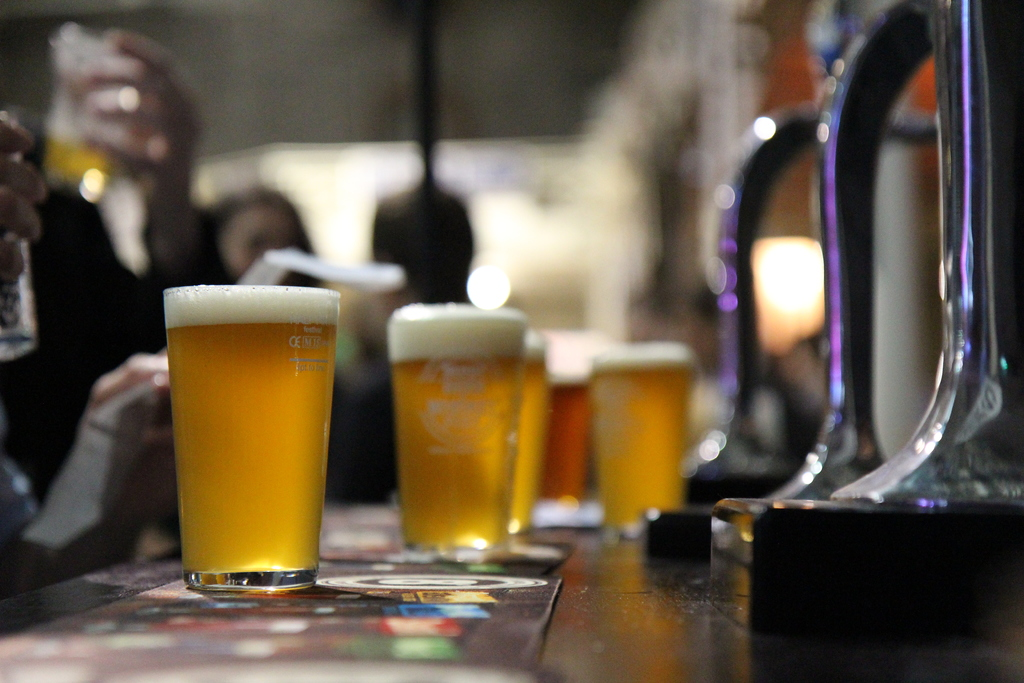Beer: (155, 281, 325, 601), (384, 304, 521, 561), (581, 344, 705, 530), (516, 330, 546, 549)
